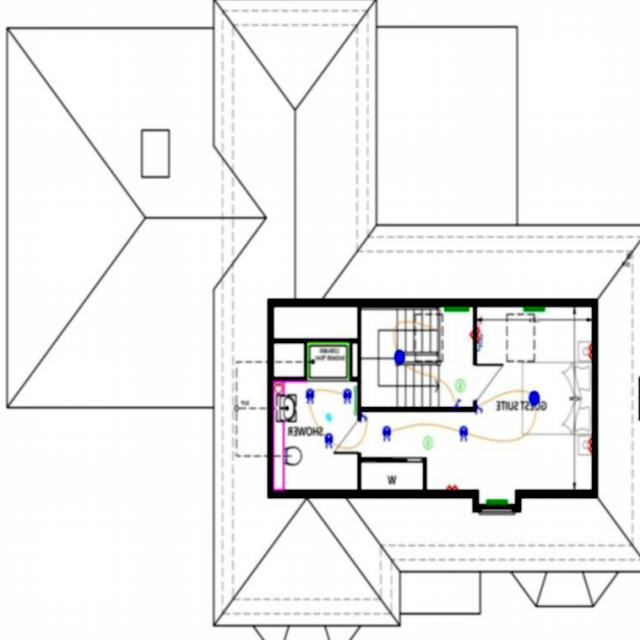Cat 6 Data Socket: (477, 341, 484, 351)
Ceiling Mounted Continuous Extract FanWith Boost Mode Activated By Light Switch: (327, 413, 332, 420)
Double Socket: (586, 342, 594, 360), (588, 436, 594, 452), (447, 482, 459, 490), (476, 327, 482, 341)
Full Height Tiling: (308, 341, 351, 380)
Light Switch: (362, 413, 369, 421), (478, 403, 484, 412), (456, 399, 463, 406)
Low Energy Downlighter: (459, 424, 471, 442), (383, 424, 393, 440), (344, 388, 353, 403), (307, 388, 315, 403), (326, 432, 333, 448)
Low Energy Pendant Light: (530, 390, 542, 405), (395, 349, 407, 364)
Mains Wired Smoke Detector: (456, 377, 467, 391), (424, 436, 434, 448)
Radiator: (487, 498, 509, 503), (445, 306, 470, 310), (524, 306, 546, 310)
Shaver Socket: (274, 380, 284, 395)
Single Socket: (470, 330, 474, 339)
TV - Satellite Multisocket: (477, 318, 483, 327)
